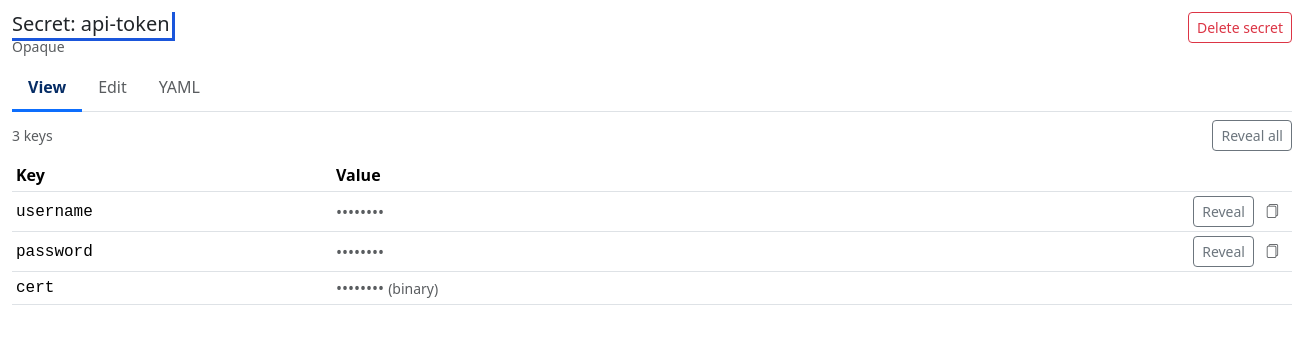
Test: SecretDetail — view mode › reveals all values and hides them again
Click the button "Reveal all" at (1252, 136), box 1212,120 -> 1292,151
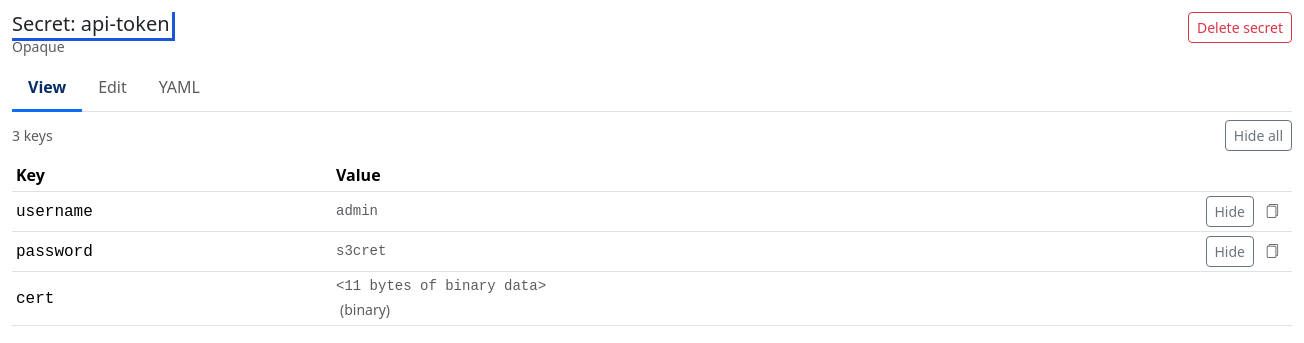
Now the row "username admin Hide" is shown, box 12,192 -> 1292,232
Now the row "password s3cret Hide" is shown, box 12,232 -> 1292,272
Click the button "Hide all" at (1258, 136), box 1225,120 -> 1292,151
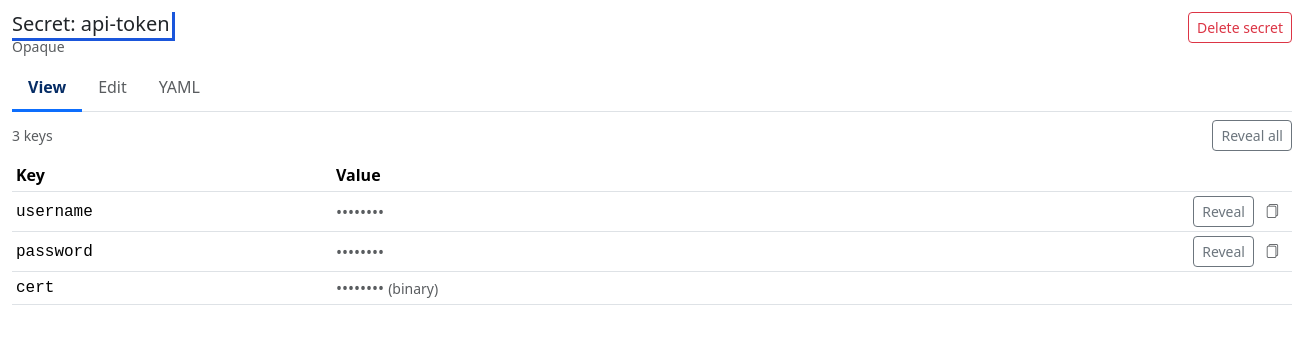
Now the row "username •••••••• Reveal" is shown, box 12,192 -> 1292,232
